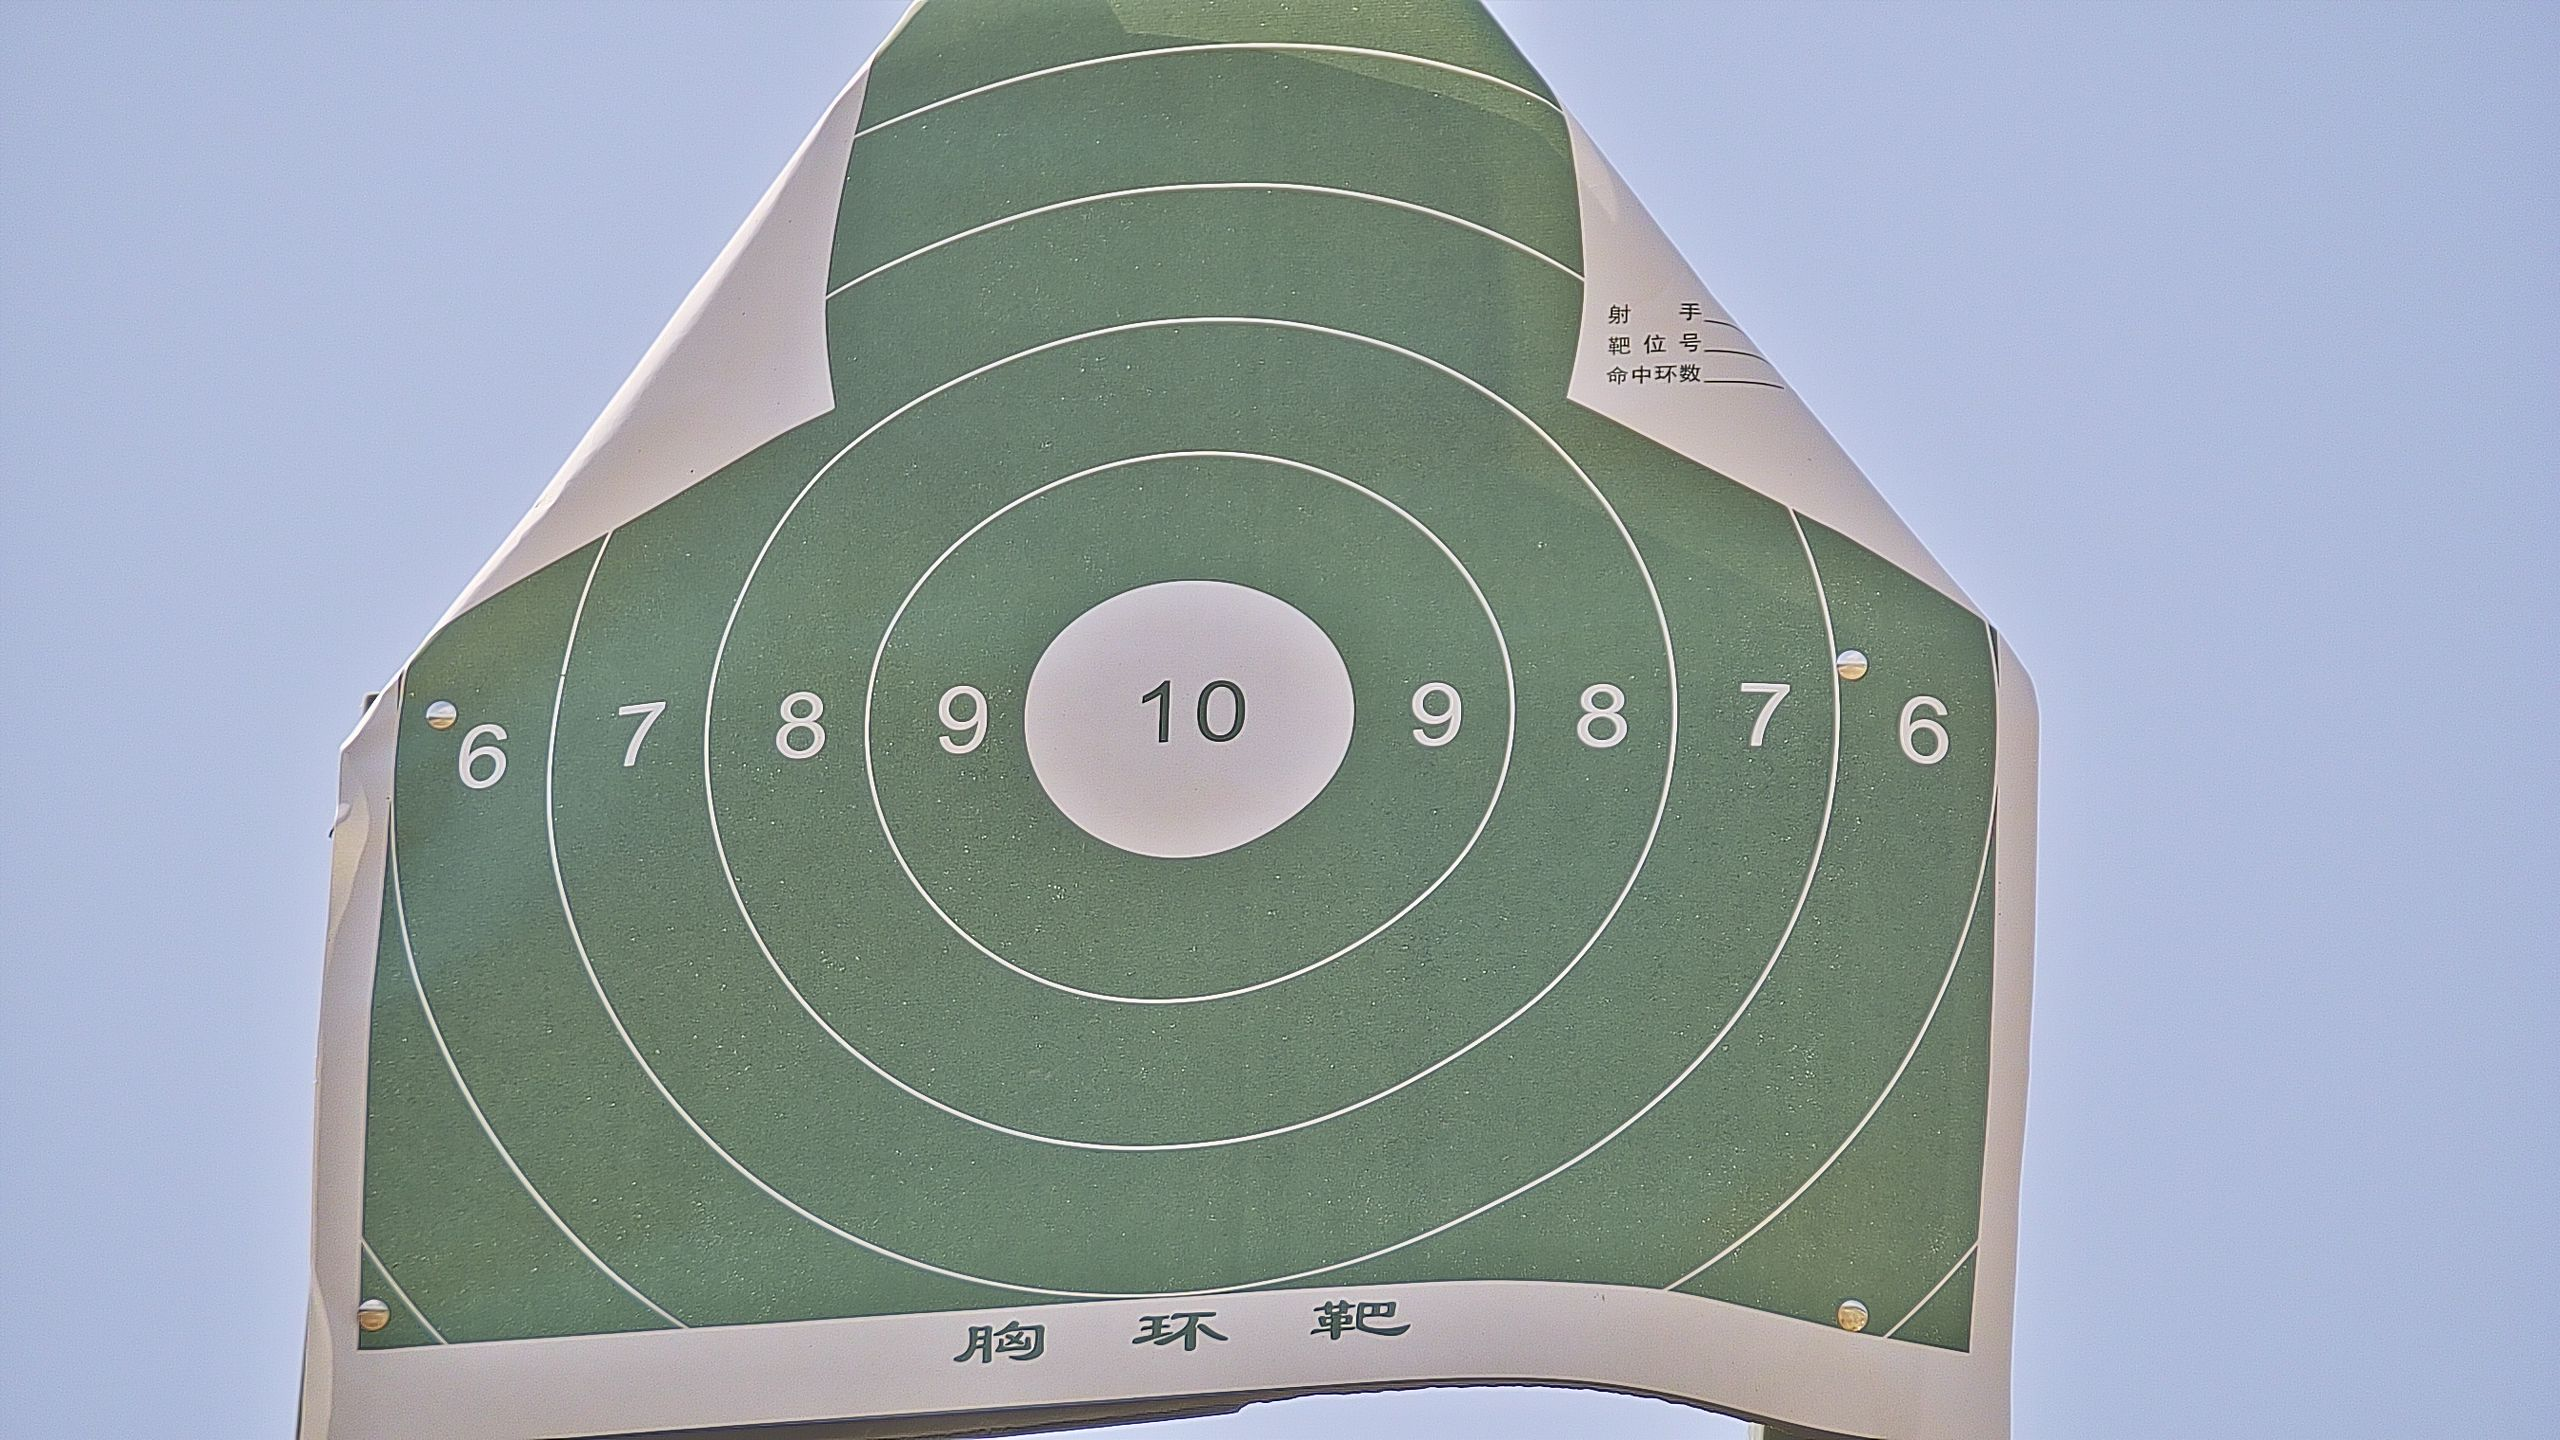kernel: (1182, 710, 1189, 712)
target: (355, 5, 2004, 1366)
ten: (1022, 571, 1361, 858)
